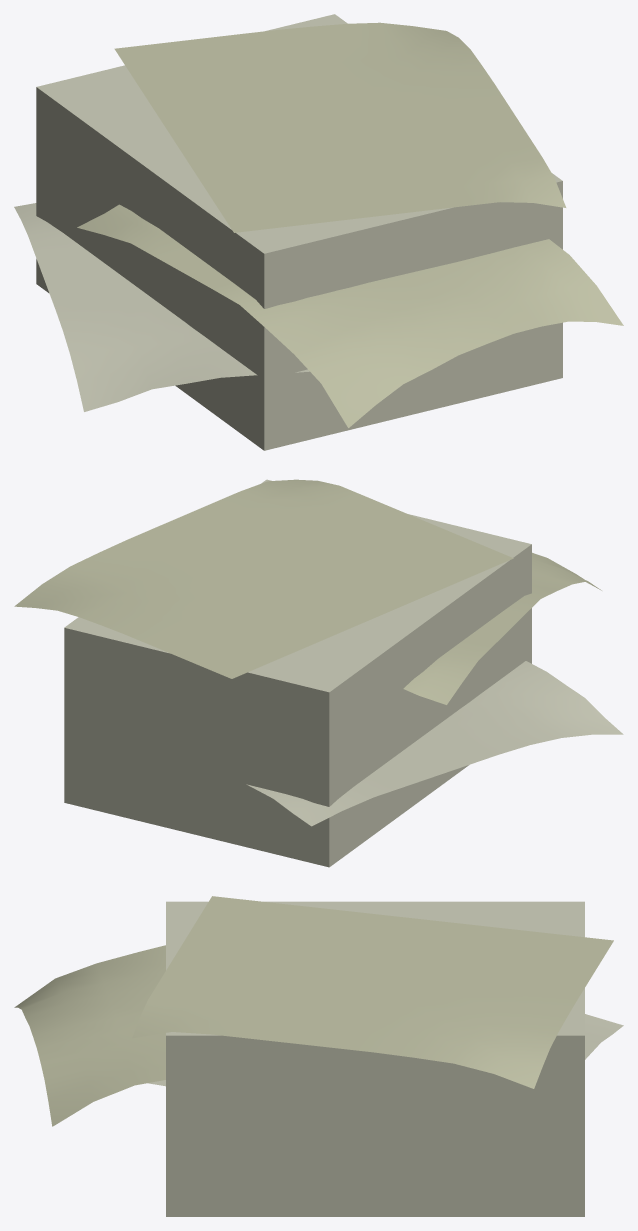
File: Paper Stack 1 .fbx
3 views of the same model, one above another, from view 1: azimuth 30°, elevation 25°; view 2: azimuth 150°, elevation 25°; view 3: azimuth 270°, elevation 25° (orthographic). The views are drawn at different scales.
Visible parts, largest first — view 1: pPlane12; view 2: pPlane12; view 3: pPlane12.
Part boxes in pixels (bbox=[...]): pPlane12: bbox=[14, 14, 623, 450]; pPlane12: bbox=[14, 479, 623, 867]; pPlane12: bbox=[14, 896, 623, 1216].
Size of the model in its own units: 1.76 by 0.6425 by 1.92.
